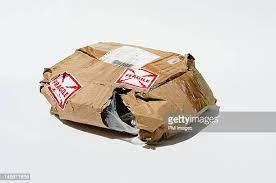damage_box: (38, 38, 218, 144)
